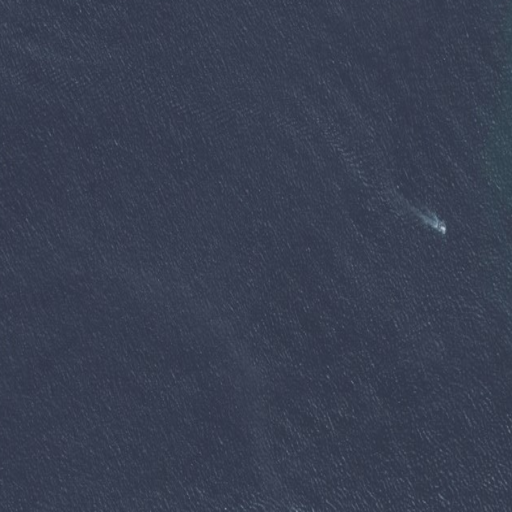ship: (432, 218, 449, 235)
